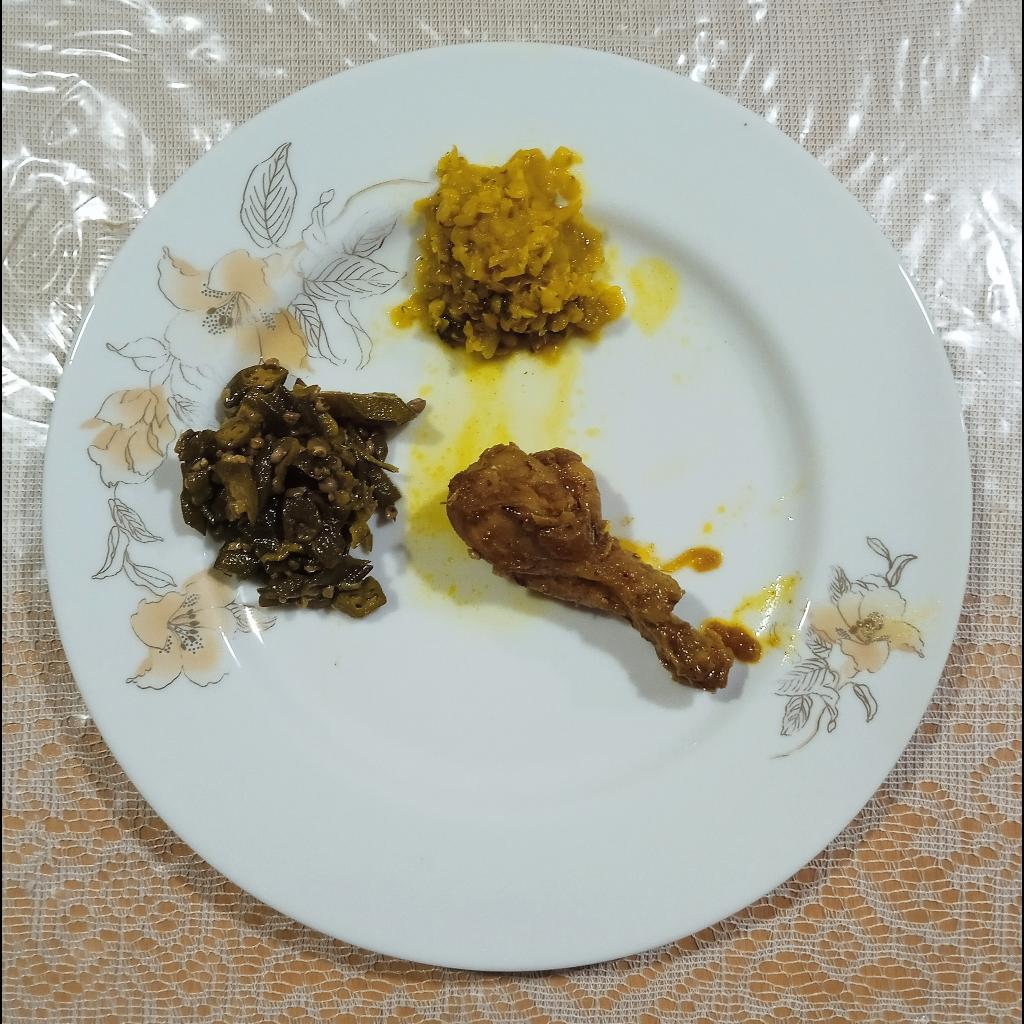chicken: (447, 442, 763, 695)
daal: (390, 146, 626, 356)
okra: (170, 363, 417, 620)
